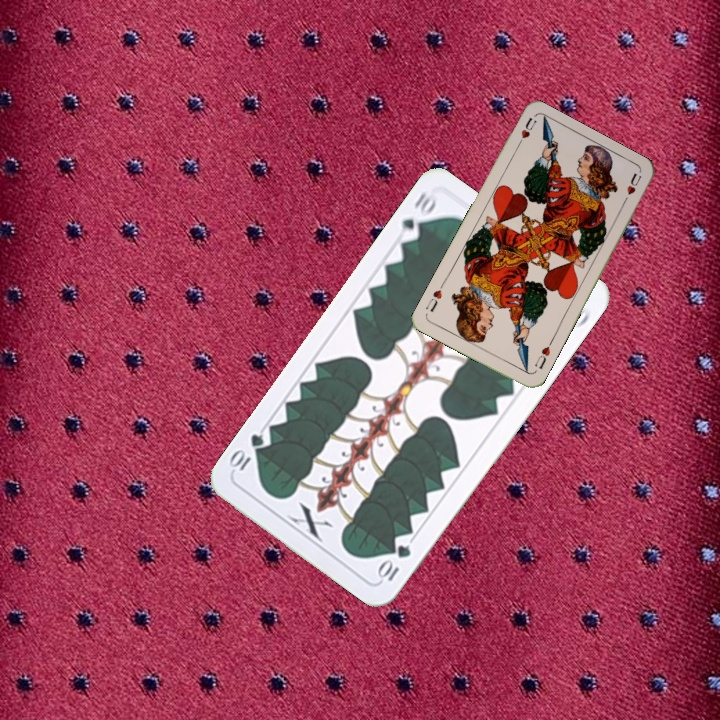G10: (394, 186, 440, 245), (372, 540, 414, 584)
HU: (512, 113, 539, 151), (530, 337, 555, 372)
